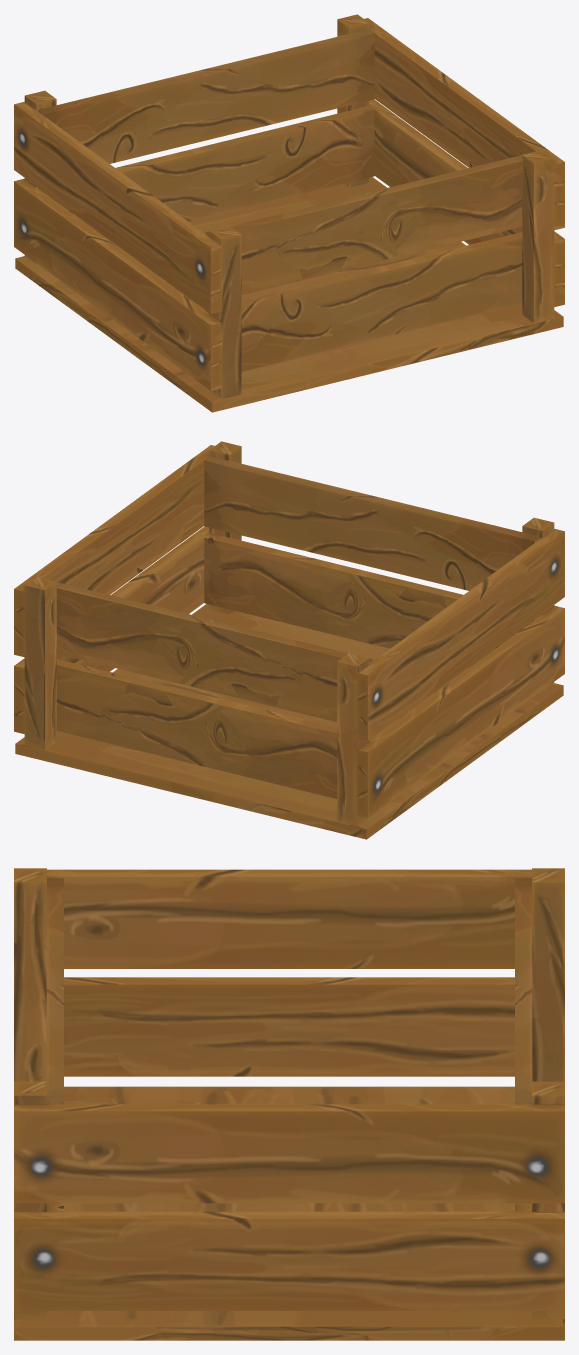
The model's file is box_square.gltf.
The picture shows the model from 3 angles, top to bottom: view 1: azimuth 30°, elevation 25°; view 2: azimuth 150°, elevation 25°; view 3: azimuth 270°, elevation 25°; orthographic projection. The views are drawn at different scales.
Visible parts, largest first — view 1: fruis_and_vegetables.013; view 2: fruis_and_vegetables.013; view 3: fruis_and_vegetables.013.
Boxes of the visible parts, left/top/right/bottom form: fruis_and_vegetables.013: left=14, top=14, right=564, bottom=412; fruis_and_vegetables.013: left=14, top=441, right=564, bottom=839; fruis_and_vegetables.013: left=14, top=868, right=564, bottom=1340.
Size of the model in its own units: 0.6953 by 0.3204 by 0.6697.
1 material, 1 textured.
